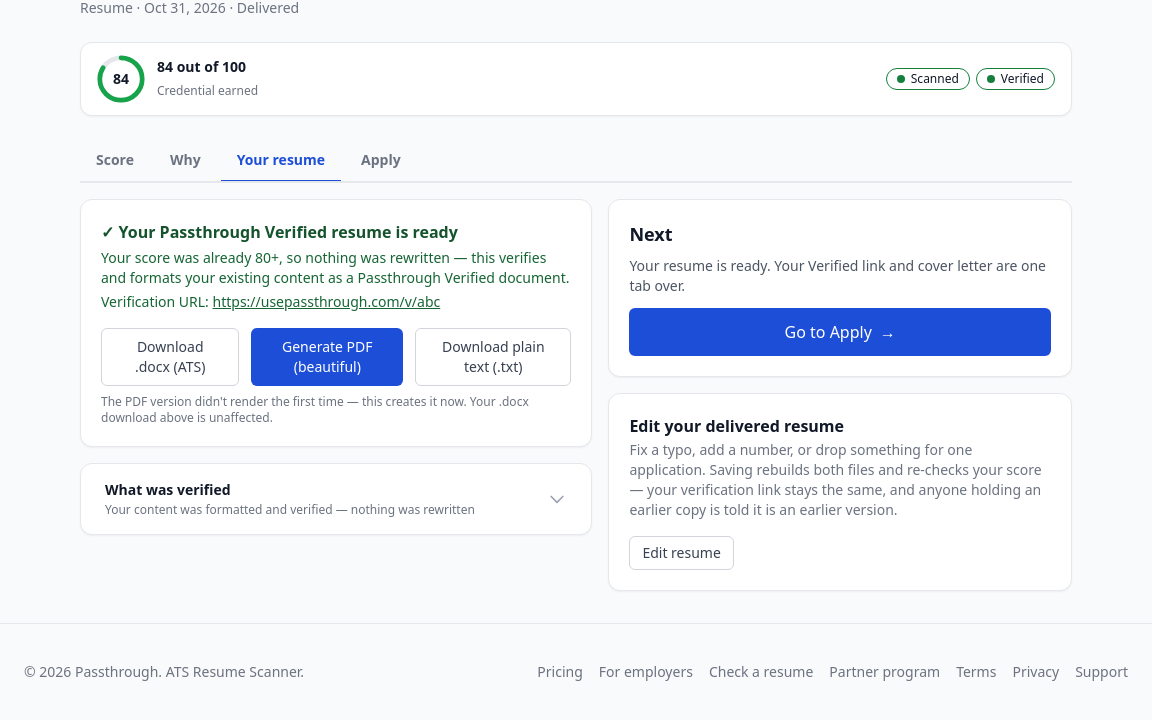
Scenario: the editors open on real-world data (they used to replace the whole page with the error screen) › Edit resume on a Verified-only delivery
The image size is (1152, 720).
(page scrolled)
Step 1. Click the button "Edit resume" → (682, 553), box [629,536,734,570]
(page scrolled)
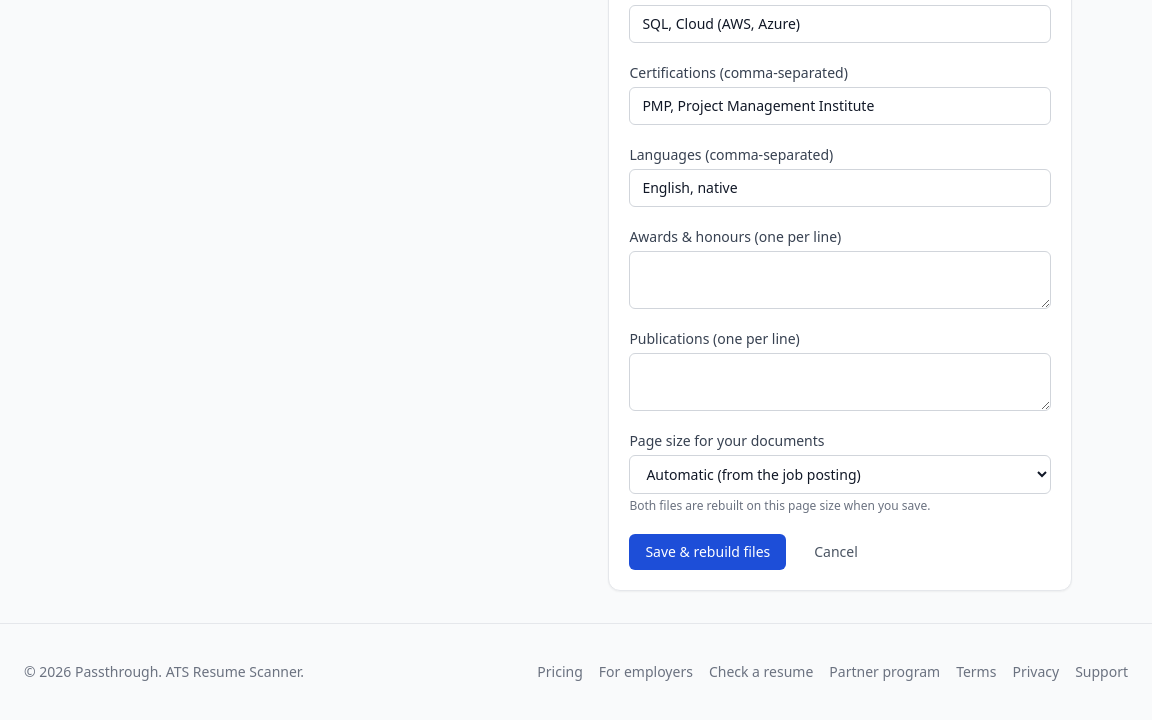
Result: the field showing "Cloud (AWS, Azure)" is shown at [629,5,1051,43]
Result: the button "Save & rebuild files" is shown at [629,534,786,570]
